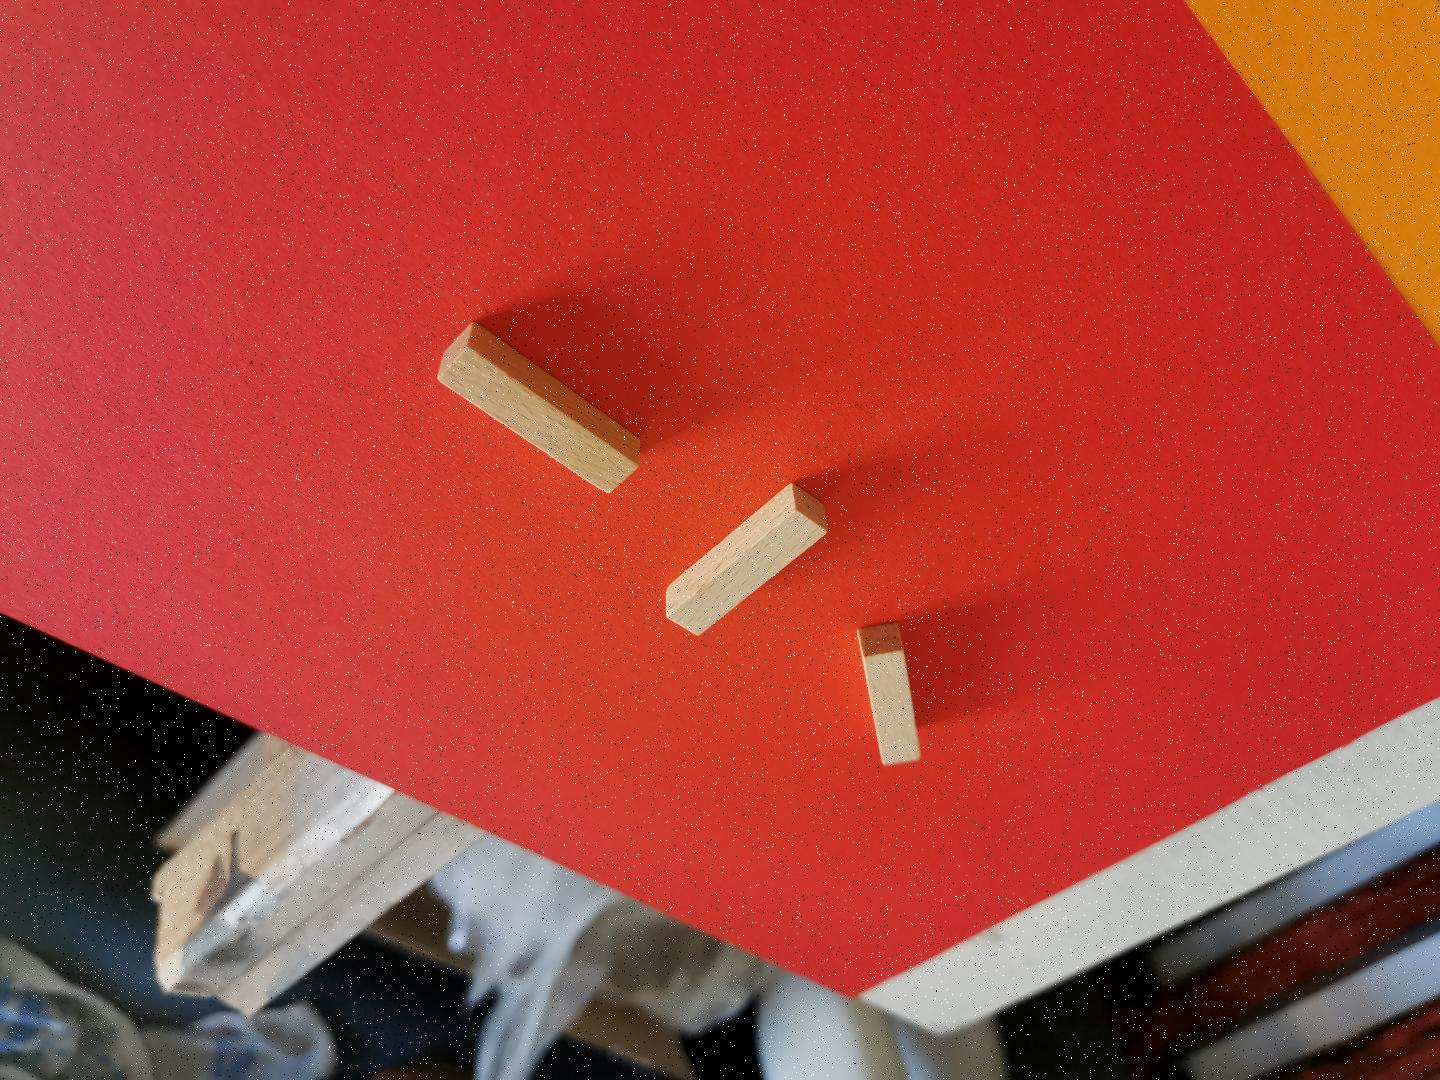jenga: (439, 323, 638, 492), (667, 483, 827, 635), (858, 622, 920, 765)
